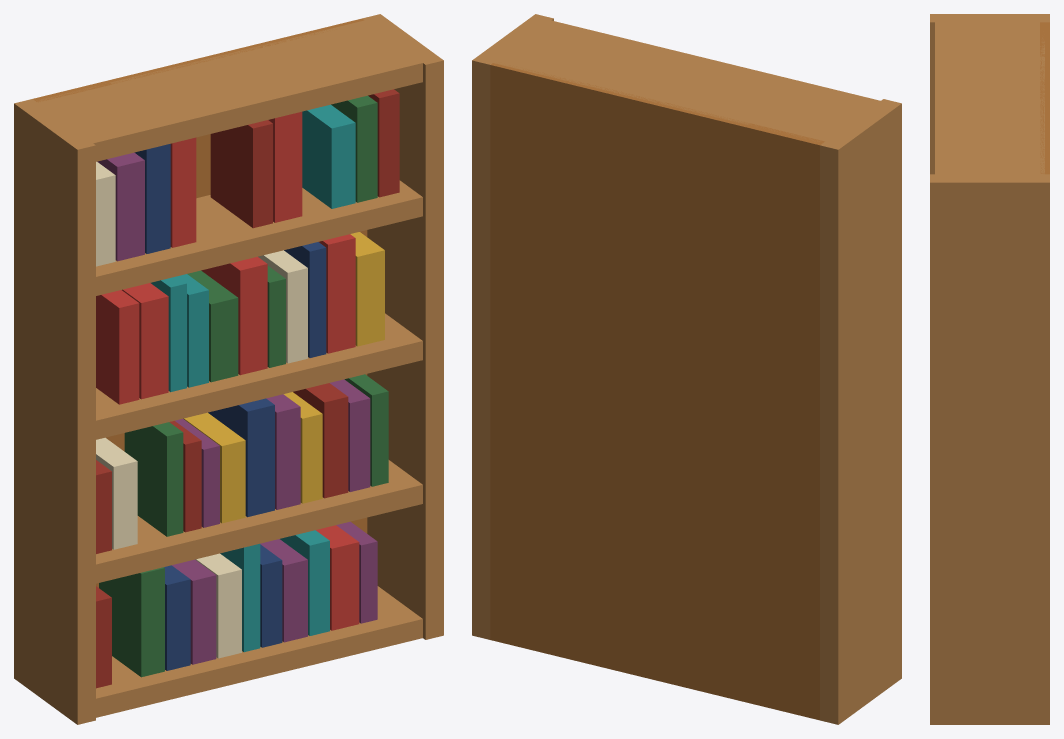
File: FUR_Bookshelf_Frac.fbx
3 renders of one model, left to right at view 1: azimuth 30°, elevation 25°; view 2: azimuth 150°, elevation 25°; view 3: azimuth 270°, elevation 25°, orthographic. The views are drawn at different scales.
Parts seen in each view (by area): view 1: FUR_Bookshelf_Frac_3, FUR_Bookshelf_Frac_4, FUR_Bookshelf_Frac_5, FUR_Bookshelf_Frac_2, FUR_Bookshelf_Frac_1; view 2: FUR_Bookshelf_Frac_3, FUR_Bookshelf_Frac_4, FUR_Bookshelf_Frac_1, FUR_Bookshelf_Frac_2, FUR_Bookshelf_Frac_5; view 3: FUR_Bookshelf_Frac_2, FUR_Bookshelf_Frac_5, FUR_Bookshelf_Frac_3, FUR_Bookshelf_Frac_1.
Part boxes in pixels (<box>): FUR_Bookshelf_Frac_3: <box>14,80,246,550</box>; FUR_Bookshelf_Frac_4: <box>14,397,331,724</box>; FUR_Bookshelf_Frac_5: <box>218,297,443,659</box>; FUR_Bookshelf_Frac_2: <box>197,14,443,328</box>; FUR_Bookshelf_Frac_1: <box>108,53,308,328</box>; FUR_Bookshelf_Frac_3: <box>651,84,901,582</box>; FUR_Bookshelf_Frac_4: <box>572,416,901,724</box>; FUR_Bookshelf_Frac_1: <box>475,75,813,430</box>; FUR_Bookshelf_Frac_2: <box>472,14,776,417</box>; FUR_Bookshelf_Frac_5: <box>472,417,646,659</box>; FUR_Bookshelf_Frac_2: <box>930,70,1049,519</box>; FUR_Bookshelf_Frac_5: <box>930,406,1049,724</box>; FUR_Bookshelf_Frac_3: <box>930,14,1049,174</box>; FUR_Bookshelf_Frac_1: <box>935,53,1049,108</box>.
Bounding box in the file's own units: 4 × 6 × 1.2.
